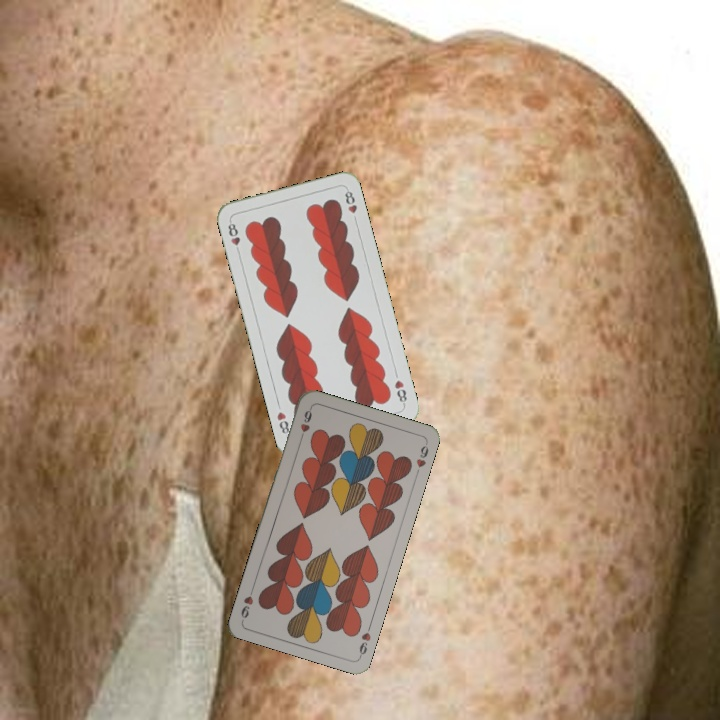H8: (224, 217, 243, 257), (390, 376, 409, 408)
H9: (295, 404, 315, 443), (355, 620, 374, 659)
